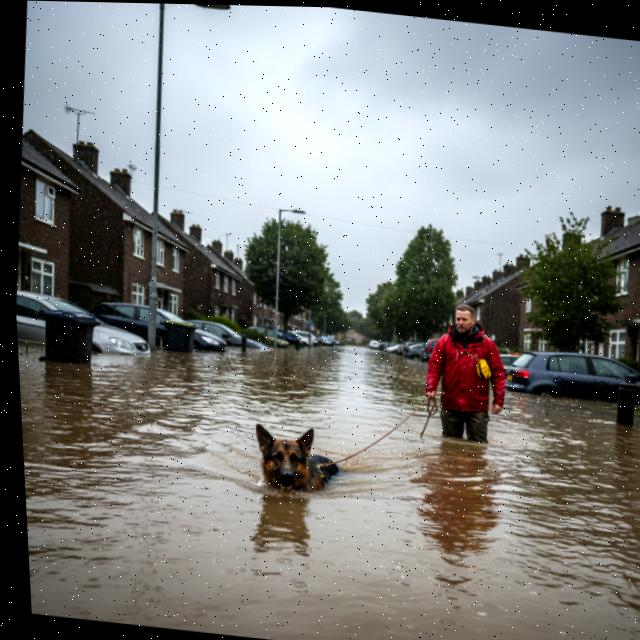dog: (235, 411, 357, 515)
rescuer: (404, 294, 523, 460)
